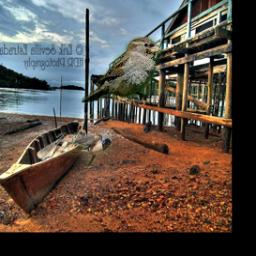Sparrow: (82, 38, 162, 104)
Swallow: (56, 134, 113, 170)
